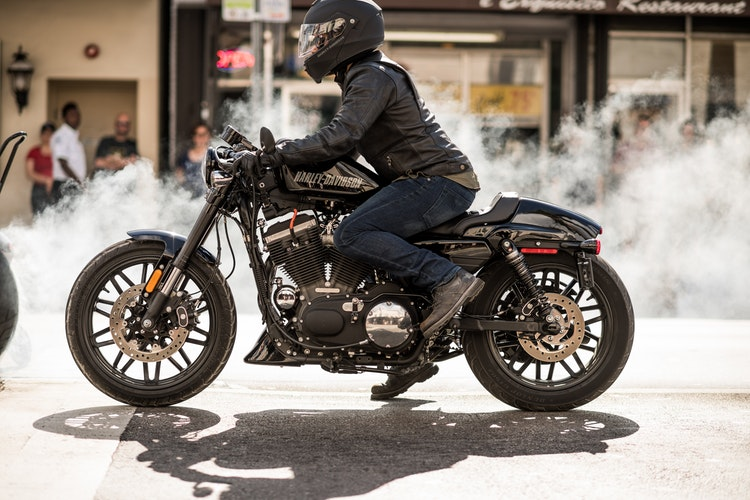helmet: (295, 4, 393, 68)
